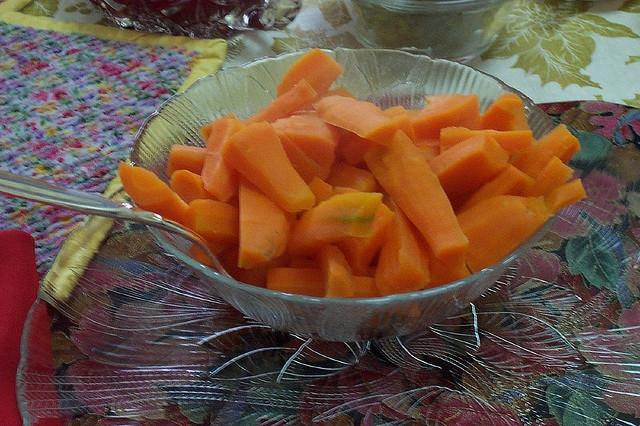carrot: (364, 130, 469, 272), (220, 122, 314, 213), (455, 194, 554, 272), (427, 130, 509, 208), (287, 192, 382, 259), (375, 190, 430, 296), (237, 173, 296, 268), (270, 115, 342, 185), (310, 95, 407, 146), (118, 164, 190, 224), (510, 122, 581, 178), (243, 78, 320, 126), (202, 119, 246, 200), (277, 47, 342, 99), (418, 229, 472, 290), (409, 94, 482, 138), (182, 199, 240, 246), (317, 244, 353, 298), (324, 160, 378, 192), (266, 268, 324, 297), (165, 144, 208, 178)
